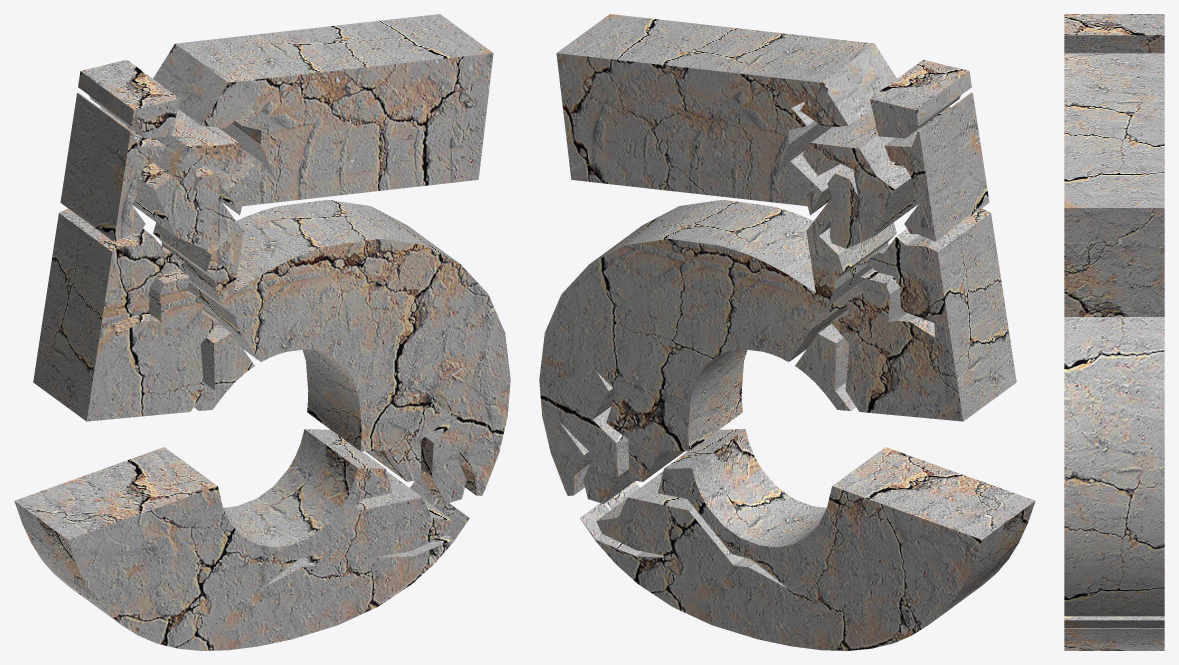
3 renders of one model, left to right at view 1: azimuth 30°, elevation 25°; view 2: azimuth 150°, elevation 25°; view 3: azimuth 270°, elevation 25°, orthographic. The views are drawn at different scales.
Parts seen in each view (by area): view 1: 5; view 2: 5; view 3: 5.
Part boxes in pixels (<box>): 5: <box>14,14,510,650</box>; 5: <box>539,14,1035,650</box>; 5: <box>1064,14,1164,650</box>.
Size of the model in its own units: 71.74 by 88.55 by 15.
1 material, 1 textured.
